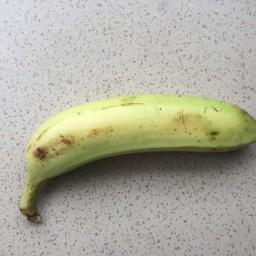Banana Ripe: (1, 88, 256, 206)
